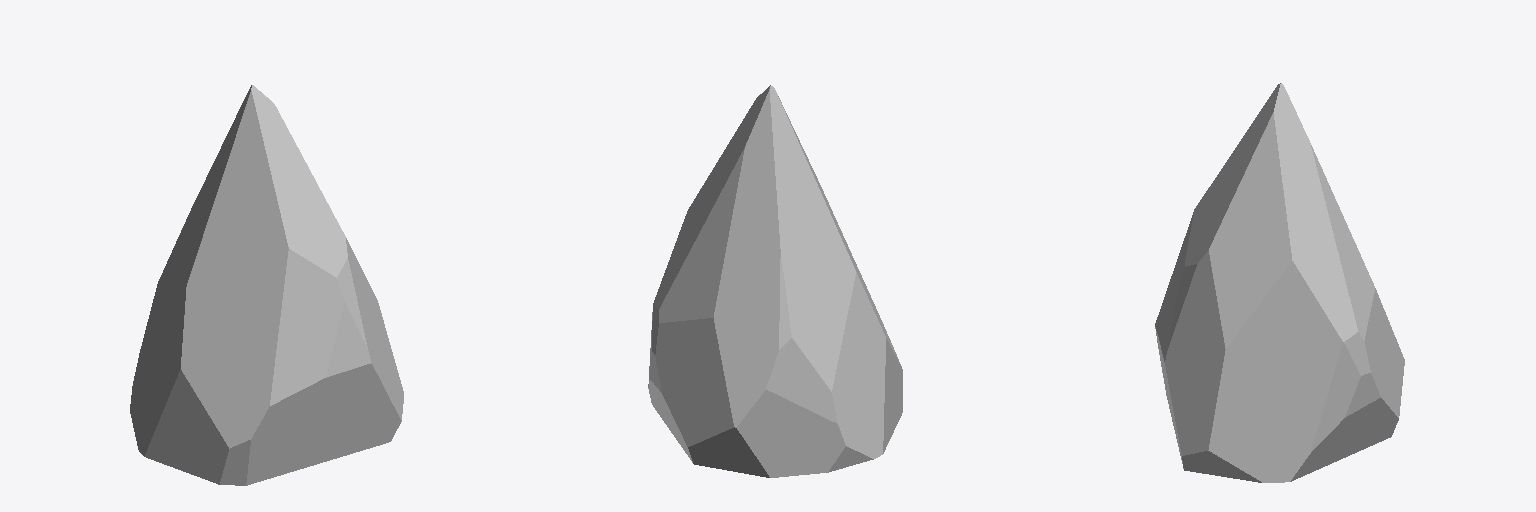
Rendered from BigRock0.obj.
The picture shows the model from 3 angles: view 1: azimuth 30°, elevation 25°; view 2: azimuth 150°, elevation 25°; view 3: azimuth 270°, elevation 25°; orthographic projection.
Parts seen in each view (by area): view 1: Cone; view 2: Cone; view 3: Cone.
Part boxes in pixels (x1,y1,x2,y2): Cone: (130,85,403,485); Cone: (648,85,902,477); Cone: (1155,83,1404,482).
Bounding box in the file's own units: 105 × 152 × 100.